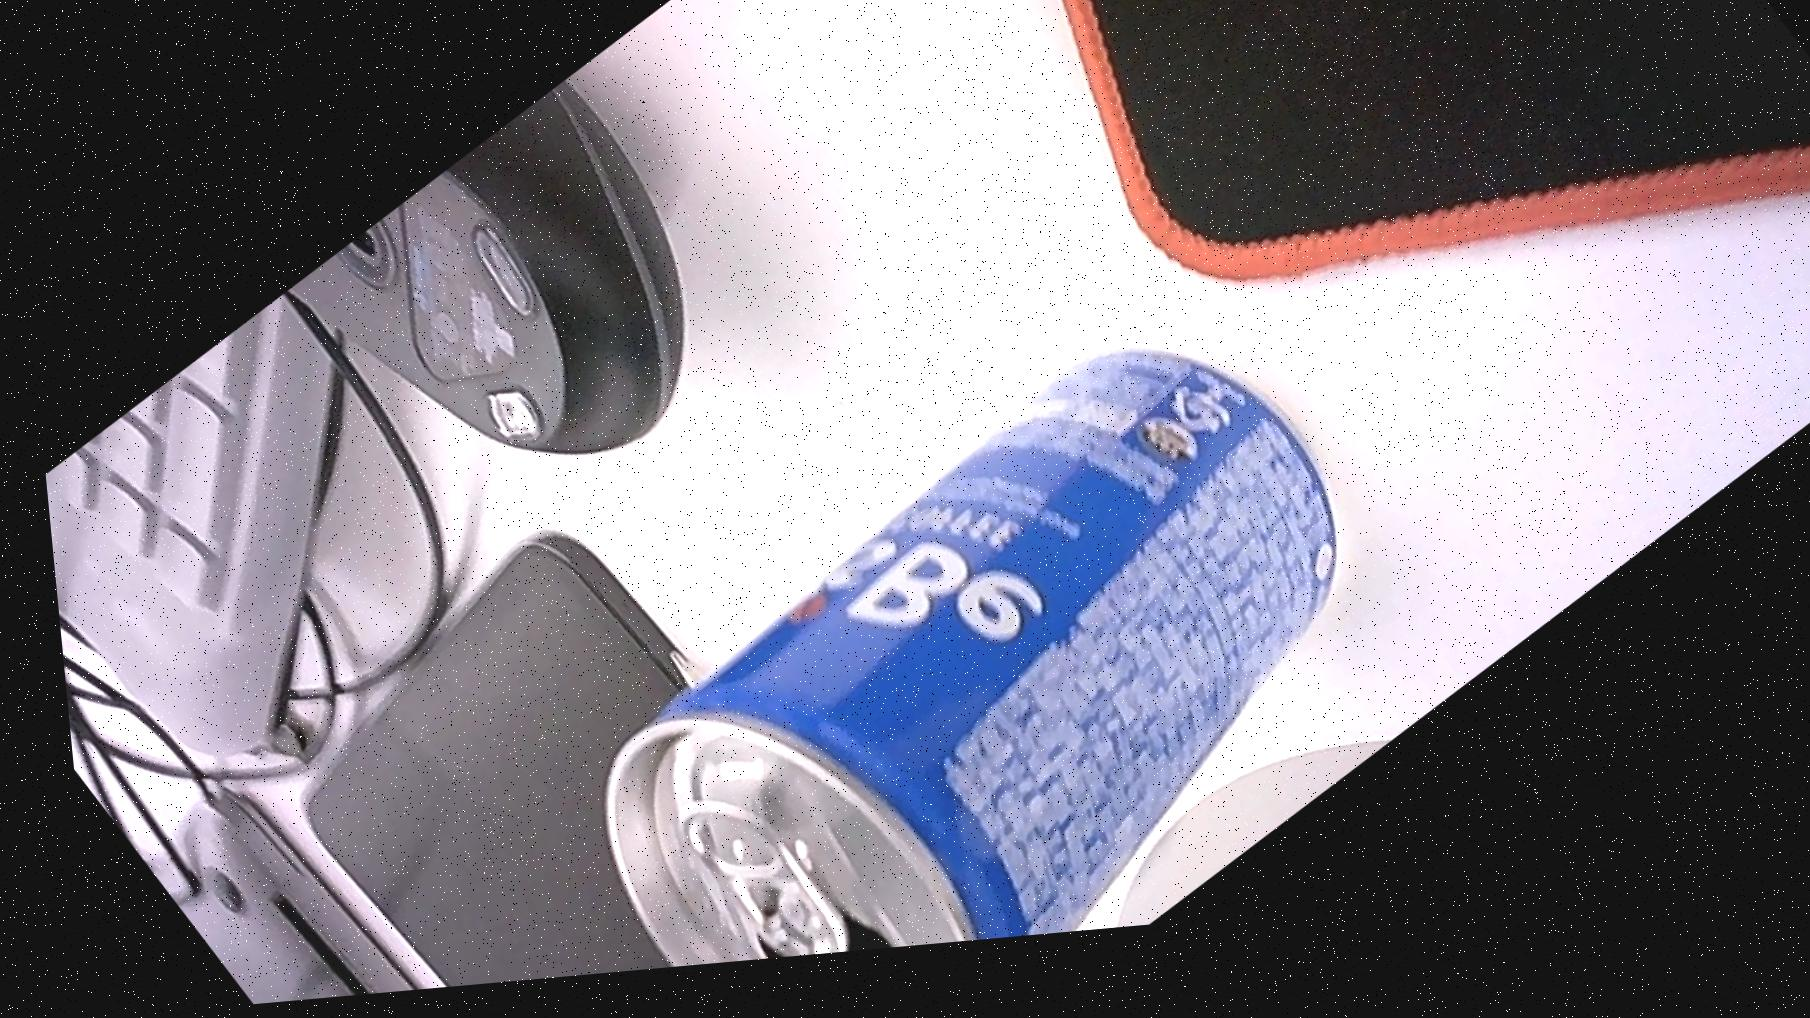letsbe: (475, 281, 1481, 987)
